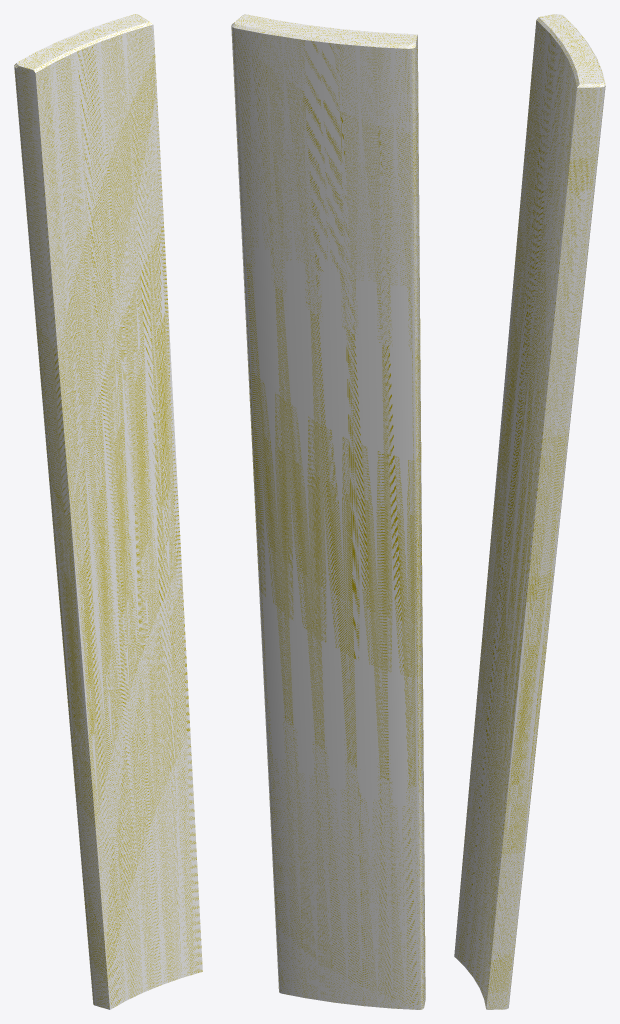
The model's file is original-9.obj.
3 views of the same model, side by side, from view 1: azimuth 30°, elevation 25°; view 2: azimuth 150°, elevation 25°; view 3: azimuth 270°, elevation 25° (orthographic). The views are drawn at different scales.
Visible parts, largest first — view 1: #ID55; view 2: #ID55; view 3: #ID55.
Boxes of the visible parts, left/top/right/bottom form: #ID55: left=14, top=14, right=202, bottom=1009; #ID55: left=231, top=14, right=425, bottom=1009; #ID55: left=454, top=14, right=605, bottom=1009.
Size of the model in its own units: 0.1769 by 1.02 by 0.1523.
